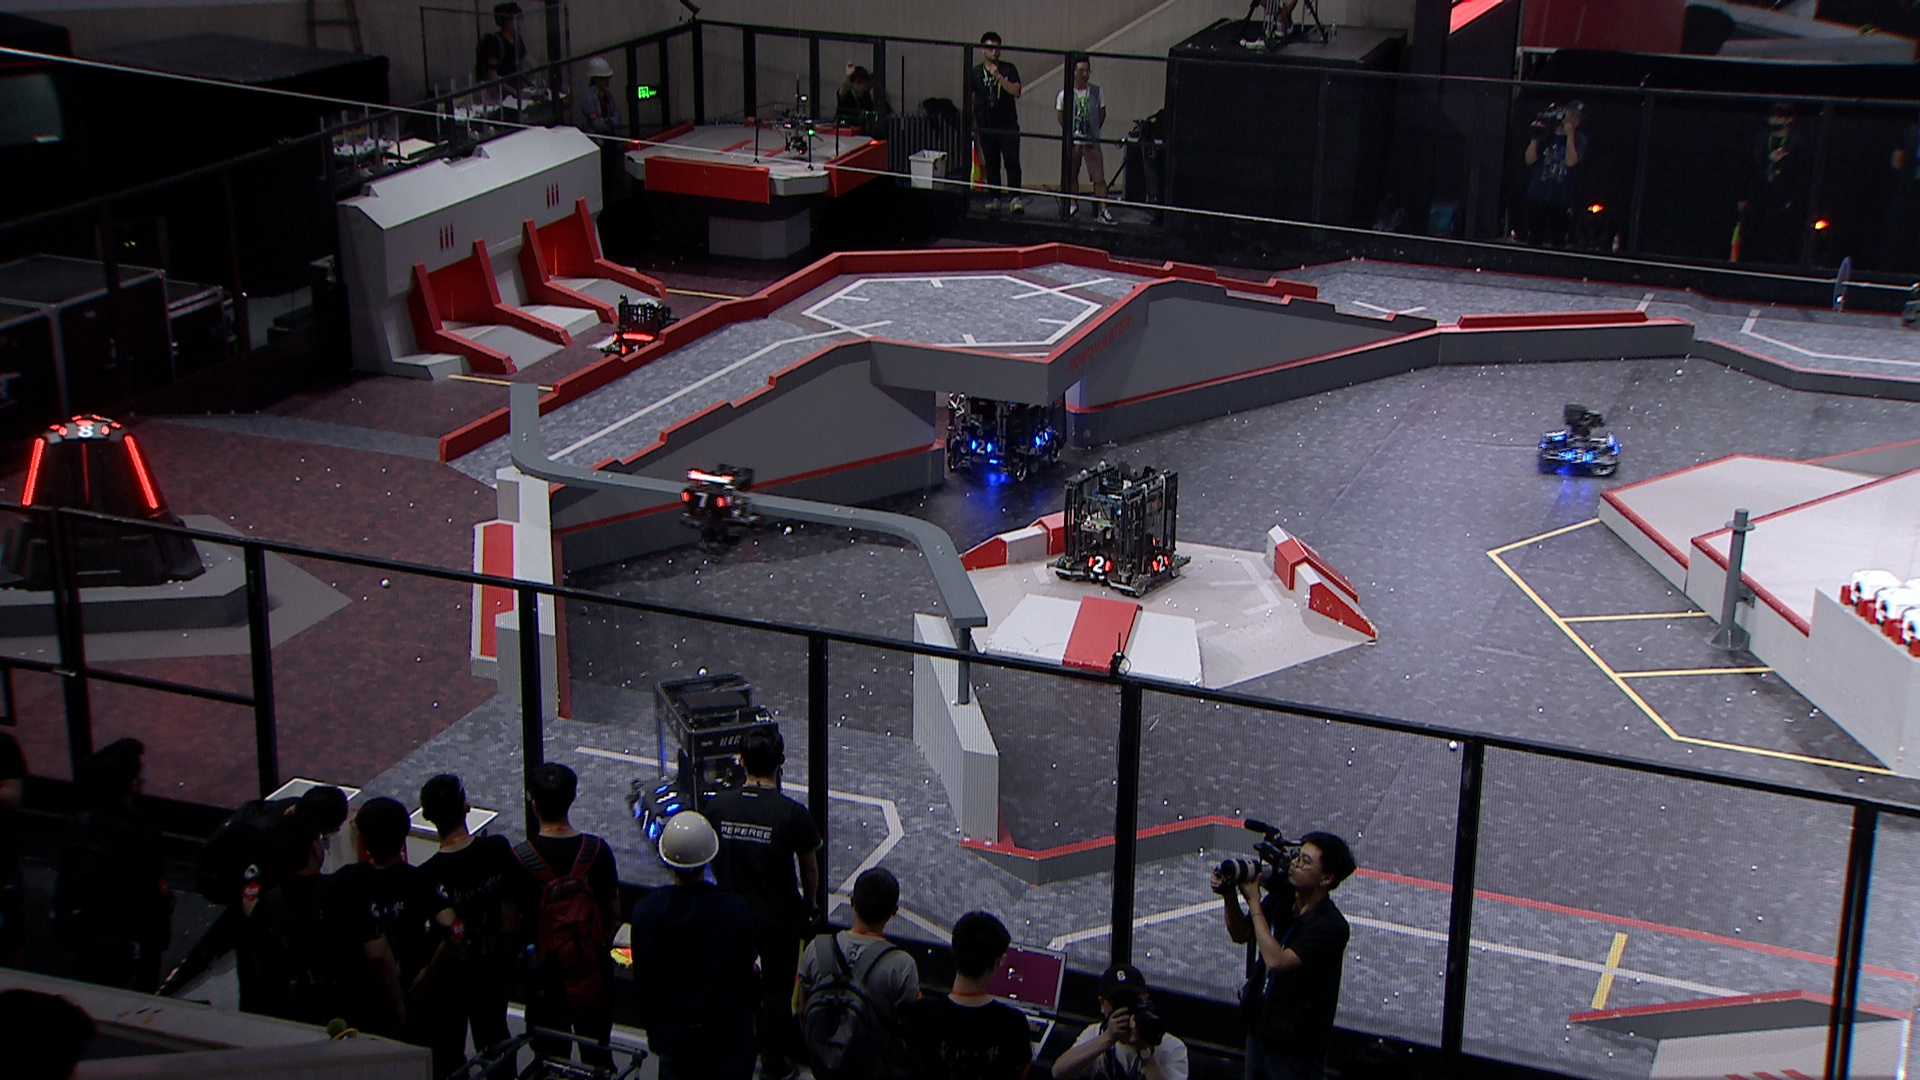armor: (124, 436, 158, 510), (21, 434, 44, 505), (76, 440, 94, 506), (680, 489, 723, 509), (655, 782, 680, 812), (59, 423, 107, 436), (1084, 555, 1116, 574), (636, 807, 657, 832), (1149, 553, 1171, 574), (969, 436, 993, 456), (1544, 425, 1564, 446), (1567, 450, 1590, 463), (622, 342, 642, 357), (1035, 429, 1048, 447)
car: (628, 674, 793, 851), (1048, 462, 1188, 597), (944, 353, 1072, 487), (1536, 404, 1626, 479), (604, 291, 684, 372)
watcher: (676, 462, 765, 566)
